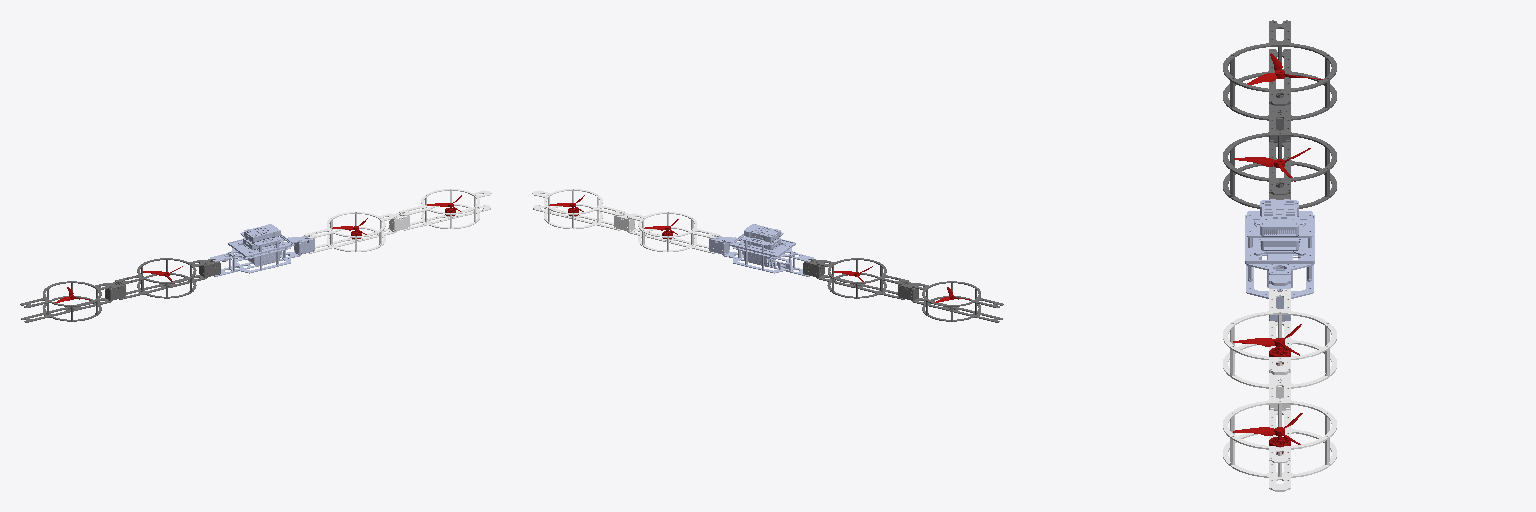
URDF robot description (AeroMorph):
<?xml version="1.0" encoding="utf-8"?>
<!-- This URDF was automatically created by SolidWorks to URDF Exporter! Originally created by Stephen Brawner (brawner@gmail.com) 
     Commit Version: 1.6.0-4-g7f85cfe  Build Version: 1.6.7995.38578
     For more information, please see http://wiki.ros.org/sw_urdf_exporter -->
<robot
  name="AeroMorph">
  <link
    name="link3">
    <inertial>
      <origin
        xyz="-0.1188668558262 -0.000113927677717716 0.0467458582673627"
        rpy="0 0 0" />
      <mass
        value="0.279813179266757" />
      <inertia
        ixx="8.17927606900116E-05"
        ixy="-3.60827508392571E-07"
        ixz="-1.92209415816501E-07"
        iyy="0.000419506796000209"
        iyz="6.12719500259583E-09"
        izz="0.000488460428249702" />
    </inertial>
    <visual>
      <origin
        xyz="0 0 0"
        rpy="0 0 0" />
      <geometry>
        <mesh
          filename="package://aeromorph_description/meshes/link3.STL" />
      </geometry>
      <material
        name="">
        <color
          rgba="0.792156862745098 0.819607843137255 0.933333333333333 1" />
      </material>
    </visual>
    <collision>
      <origin
        xyz="0 0 0"
        rpy="0 0 0" />
      <geometry>
        <mesh
          filename="package://aeromorph_description/meshes/link3.STL" />
      </geometry>
    </collision>
  </link>
  <link
    name="link2">
    <inertial>
      <origin
        xyz="0.182516099074473 4.54054446753392E-06 0.0183915166790052"
        rpy="0 0 0" />
      <mass
        value="0.100774611008286" />
      <inertia
        ixx="6.85584715809023E-05"
        ixy="4.19660692422079E-09"
        ixz="2.43239114986142E-07"
        iyy="0.000274490407167727"
        iyz="-4.98187394335319E-09"
        izz="0.000335245687564488" />
    </inertial>
    <visual>
      <origin
        xyz="0 0 0"
        rpy="0 0 0" />
      <geometry>
        <mesh
          filename="package://aeromorph_description/meshes/link2.STL" />
      </geometry>
      <material
        name="">
        <color
          rgba="1 1 1 1" />
      </material>
    </visual>
    <collision>
      <origin
        xyz="0 0 0"
        rpy="0 0 0" />
      <geometry>
        <mesh
          filename="package://aeromorph_description/meshes/link2.STL" />
      </geometry>
    </collision>
  </link>
  <joint
    name="joint2"
    type="revolute">
    <origin
      xyz="0 0 0"
      rpy="0 0 0" />
    <parent
      link="link3" />
    <child
      link="link2" />
    <axis
      xyz="0 0 1" />
    <limit
      lower="-3.14"
      upper="3.14"
      effort="100"
      velocity="5" />
  </joint>
  <link
    name="link1">
    <inertial>
      <origin
        xyz="0.126020269022029 -2.24429849704499E-16 0.0168923135262206"
        rpy="0 0 0" />
      <mass
        value="0.0577339284780824" />
      <inertia
        ixx="6.24162986848506E-05"
        ixy="-1.02064765057209E-19"
        ixz="1.31218204900019E-20"
        iyy="0.000263996084484581"
        iyz="-1.86462557483818E-22"
        izz="0.000325679376117156" />
    </inertial>
    <visual>
      <origin
        xyz="0 0 0"
        rpy="0 0 0" />
      <geometry>
        <mesh
          filename="package://aeromorph_description/meshes/link1.STL" />
      </geometry>
      <material
        name="">
        <color
          rgba="1 1 1 1" />
      </material>
    </visual>
    <collision>
      <origin
        xyz="0 0 0"
        rpy="0 0 0" />
      <geometry>
        <mesh
          filename="package://aeromorph_description/meshes/link1.STL" />
      </geometry>
    </collision>
  </link>
  <joint
    name="joint1"
    type="revolute">
    <origin
      xyz="0.2705 0 0"
      rpy="0 0 0" />
    <parent
      link="link2" />
    <child
      link="link1" />
    <axis
      xyz="0 0 1" />
    <limit
      lower="-3.14"
      upper="3.14"
      effort="100"
      velocity="5" />
  </joint>
  <link
    name="fly1">
    <inertial>
      <origin
        xyz="-1.00353917842355E-07 3.3269174323959E-07 -0.0167143348261505"
        rpy="0 0 0" />
      <mass
        value="0.0139605720856267" />
      <inertia
        ixx="1.4968995157726E-06"
        ixy="-9.94368243515479E-12"
        ixz="2.42318249664448E-11"
        iyy="1.49695967108022E-06"
        iyz="-1.30174264454974E-12"
        izz="2.31791757572465E-06" />
    </inertial>
    <visual>
      <origin
        xyz="0 0 0"
        rpy="0 0 0" />
      <geometry>
        <mesh
          filename="package://aeromorph_description/meshes/fly1.STL" />
      </geometry>
      <material
        name="">
        <color
          rgba="0.694117647058824 0.0980392156862745 0.0980392156862745 1" />
      </material>
    </visual>
    <collision>
      <origin
        xyz="0 0 0"
        rpy="0 0 0" />
      <geometry>
        <mesh
          filename="package://aeromorph_description/meshes/fly1.STL" />
      </geometry>
    </collision>
  </link>
  <joint
    name="fly_joint1"
    type="continuous">
    <origin
      xyz="0.13525 0 0.0351"
      rpy="0 0 0" />
    <parent
      link="link1" />
    <child
      link="fly1" />
    <axis
      xyz="0 0 1" />
  </joint>
  <link
    name="fly2">
    <inertial>
      <origin
        xyz="-1.00345932396717E-07 3.3263818675531E-07 -0.0167143351541265"
        rpy="0 0 0" />
      <mass
        value="0.0139605717810736" />
      <inertia
        ixx="1.49689949704154E-06"
        ixy="-9.9550792747816E-12"
        ixz="2.42284155169563E-11"
        iyy="1.49695964714701E-06"
        iyz="-1.29971407509268E-12"
        izz="2.31791753499522E-06" />
    </inertial>
    <visual>
      <origin
        xyz="0 0 0"
        rpy="0 0 0" />
      <geometry>
        <mesh
          filename="package://aeromorph_description/meshes/fly2.STL" />
      </geometry>
      <material
        name="">
        <color
          rgba="0.694117647058824 0.0980392156862745 0.0980392156862745 1" />
      </material>
    </visual>
    <collision>
      <origin
        xyz="0 0 0"
        rpy="0 0 0" />
      <geometry>
        <mesh
          filename="package://aeromorph_description/meshes/fly2.STL" />
      </geometry>
    </collision>
  </link>
  <joint
    name="fly_joint2"
    type="continuous">
    <origin
      xyz="0.13525 0 0.0351"
      rpy="0 0 0" />
    <parent
      link="link2" />
    <child
      link="fly2" />
    <axis
      xyz="0 0 1" />
  </joint>
  <link
    name="link4">
    <inertial>
      <origin
        xyz="-0.0887277140707986 4.59841380799674E-06 0.018359546003966"
        rpy="0 0 0" />
      <mass
        value="0.0995063997571489" />
      <inertia
        ixx="6.84949434635495E-05"
        ixy="4.19660692417713E-09"
        ixz="2.43239114986195E-07"
        iyy="0.000274474610108845"
        iyz="-4.98187394335699E-09"
        izz="0.00033516720786242" />
    </inertial>
    <visual>
      <origin
        xyz="0 0 0"
        rpy="0 0 0" />
      <geometry>
        <mesh
          filename="package://aeromorph_description/meshes/link4.STL" />
      </geometry>
      <material
        name="">
        <color
          rgba="0.498039215686275 0.498039215686275 0.498039215686275 1" />
      </material>
    </visual>
    <collision>
      <origin
        xyz="0 0 0"
        rpy="0 0 0" />
      <geometry>
        <mesh
          filename="package://aeromorph_description/meshes/link4.STL" />
      </geometry>
    </collision>
  </link>
  <joint
    name="joint3"
    type="revolute">
    <origin
      xyz="-0.2705 0 0"
      rpy="0 0 0" />
    <parent
      link="link3" />
    <child
      link="link4" />
    <axis
      xyz="0 0 1" />
    <limit
      lower="-3.14"
      upper="3.14"
      effort="100"
      velocity="5" />
  </joint>
  <link
    name="link5">
    <inertial>
      <origin
        xyz="-0.0887277140707984 4.59841380819596E-06 0.0183595460039659"
        rpy="0 0 0" />
      <mass
        value="0.0995063997571489" />
      <inertia
        ixx="6.84949434635495E-05"
        ixy="4.19660692406058E-09"
        ixz="2.43239114986192E-07"
        iyy="0.000274474610108845"
        iyz="-4.9818739433555E-09"
        izz="0.00033516720786242" />
    </inertial>
    <visual>
      <origin
        xyz="0 0 0"
        rpy="0 0 0" />
      <geometry>
        <mesh
          filename="package://aeromorph_description/meshes/link5.STL" />
      </geometry>
      <material
        name="">
        <color
          rgba="0.498039215686275 0.498039215686275 0.498039215686275 1" />
      </material>
    </visual>
    <collision>
      <origin
        xyz="0 0 0"
        rpy="0 0 0" />
      <geometry>
        <mesh
          filename="package://aeromorph_description/meshes/link5.STL" />
      </geometry>
    </collision>
  </link>
  <joint
    name="joint4"
    type="revolute">
    <origin
      xyz="-0.2705 0 0"
      rpy="0 0 0" />
    <parent
      link="link4" />
    <child
      link="link5" />
    <axis
      xyz="0 0 1" />
    <limit
      lower="-3.14"
      upper="3.14"
      effort="100"
      velocity="5" />
  </joint>
  <link
    name="fly4">
    <inertial>
      <origin
        xyz="-1.00364943023123E-07 3.32690413642079E-07 -0.0167143348346104"
        rpy="0 0 0" />
      <mass
        value="0.0139605720784562" />
      <inertia
        ixx="1.49689951559433E-06"
        ixy="-9.94315696654719E-12"
        ixz="2.42321317308085E-11"
        iyy="1.49695966804898E-06"
        iyz="-1.30167786576408E-12"
        izz="2.31791757254752E-06" />
    </inertial>
    <visual>
      <origin
        xyz="0 0 0"
        rpy="0 0 0" />
      <geometry>
        <mesh
          filename="package://aeromorph_description/meshes/fly4.STL" />
      </geometry>
      <material
        name="">
        <color
          rgba="0.694117647058824 0.0980392156862745 0.0980392156862745 1" />
      </material>
    </visual>
    <collision>
      <origin
        xyz="0 0 0"
        rpy="0 0 0" />
      <geometry>
        <mesh
          filename="package://aeromorph_description/meshes/fly4.STL" />
      </geometry>
    </collision>
  </link>
  <joint
    name="fly_joint4"
    type="continuous">
    <origin
      xyz="-0.13525 0 0.0351"
      rpy="0 0 0" />
    <parent
      link="link5" />
    <child
      link="fly4" />
    <axis
      xyz="0 0 1" />
  </joint>
  <link
    name="fly3">
    <inertial>
      <origin
        xyz="-1.00315918627469E-07 3.32628711793642E-07 -0.0167143350858023"
        rpy="0 0 0" />
      <mass
        value="0.0139605718396844" />
      <inertia
        ixx="1.496899498022E-06"
        ixy="-9.95424520841152E-12"
        ixz="2.42273667808427E-11"
        iyy="1.49695964999829E-06"
        iyz="-1.29961848902621E-12"
        izz="2.31791753823802E-06" />
    </inertial>
    <visual>
      <origin
        xyz="0 0 0"
        rpy="0 0 0" />
      <geometry>
        <mesh
          filename="package://aeromorph_description/meshes/fly3.STL" />
      </geometry>
      <material
        name="">
        <color
          rgba="0.694117647058824 0.0980392156862745 0.0980392156862745 1" />
      </material>
    </visual>
    <collision>
      <origin
        xyz="0 0 0"
        rpy="0 0 0" />
      <geometry>
        <mesh
          filename="package://aeromorph_description/meshes/fly3.STL" />
      </geometry>
    </collision>
  </link>
  <joint
    name="fly_joint3"
    type="continuous">
    <origin
      xyz="-0.13525 0 0.0351"
      rpy="0 0 0" />
    <parent
      link="link4" />
    <child
      link="fly3" />
    <axis
      xyz="0 0 1" />
  </joint>
</robot>

--- What the picture shows (computed from the rendered views, not written in the file) ---
The picture shows the robot from 3 angles, left to right: view 1: azimuth 30°, elevation 25°; view 2: azimuth 150°, elevation 25°; view 3: azimuth 270°, elevation 25°; orthographic projection.
Model AeroMorph with 9 links and 8 joints (4 revolute, 4 continuous), rooted at link3, posed all joints at 0.
Visible links, largest first — view 1: link3, link5, link4, link2, link1; view 2: link3, link5, link4, link2, link1; view 3: link3, link1, link5, link2, link4, fly1, fly2.
Boxes of the visible links, left/top/right/bottom form: link3: left=210, top=224, right=314, bottom=276; link5: left=20, top=281, right=125, bottom=322; link4: left=115, top=258, right=220, bottom=299; link2: left=304, top=212, right=409, bottom=253; link1: left=399, top=189, right=491, bottom=230; link3: left=709, top=224, right=813, bottom=276; link5: left=898, top=281, right=1003, bottom=322; link4: left=803, top=258, right=908, bottom=299; link2: left=614, top=212, right=719, bottom=253; link1: left=532, top=189, right=624, bottom=230; link3: left=1245, top=199, right=1314, bottom=321; link1: left=1223, top=378, right=1336, bottom=491; link5: left=1223, top=20, right=1336, bottom=142; link2: left=1223, top=289, right=1336, bottom=410; link4: left=1223, top=110, right=1336, bottom=208; fly1: left=1233, top=413, right=1302, bottom=453; fly2: left=1233, top=324, right=1301, bottom=363.
Bounding box of the posed robot: 1.34 × 0.147 × 0.088 m (x, y, z).
Meshes: 9 distinct files referenced, 9 mesh visuals loaded (9 binary STL).
